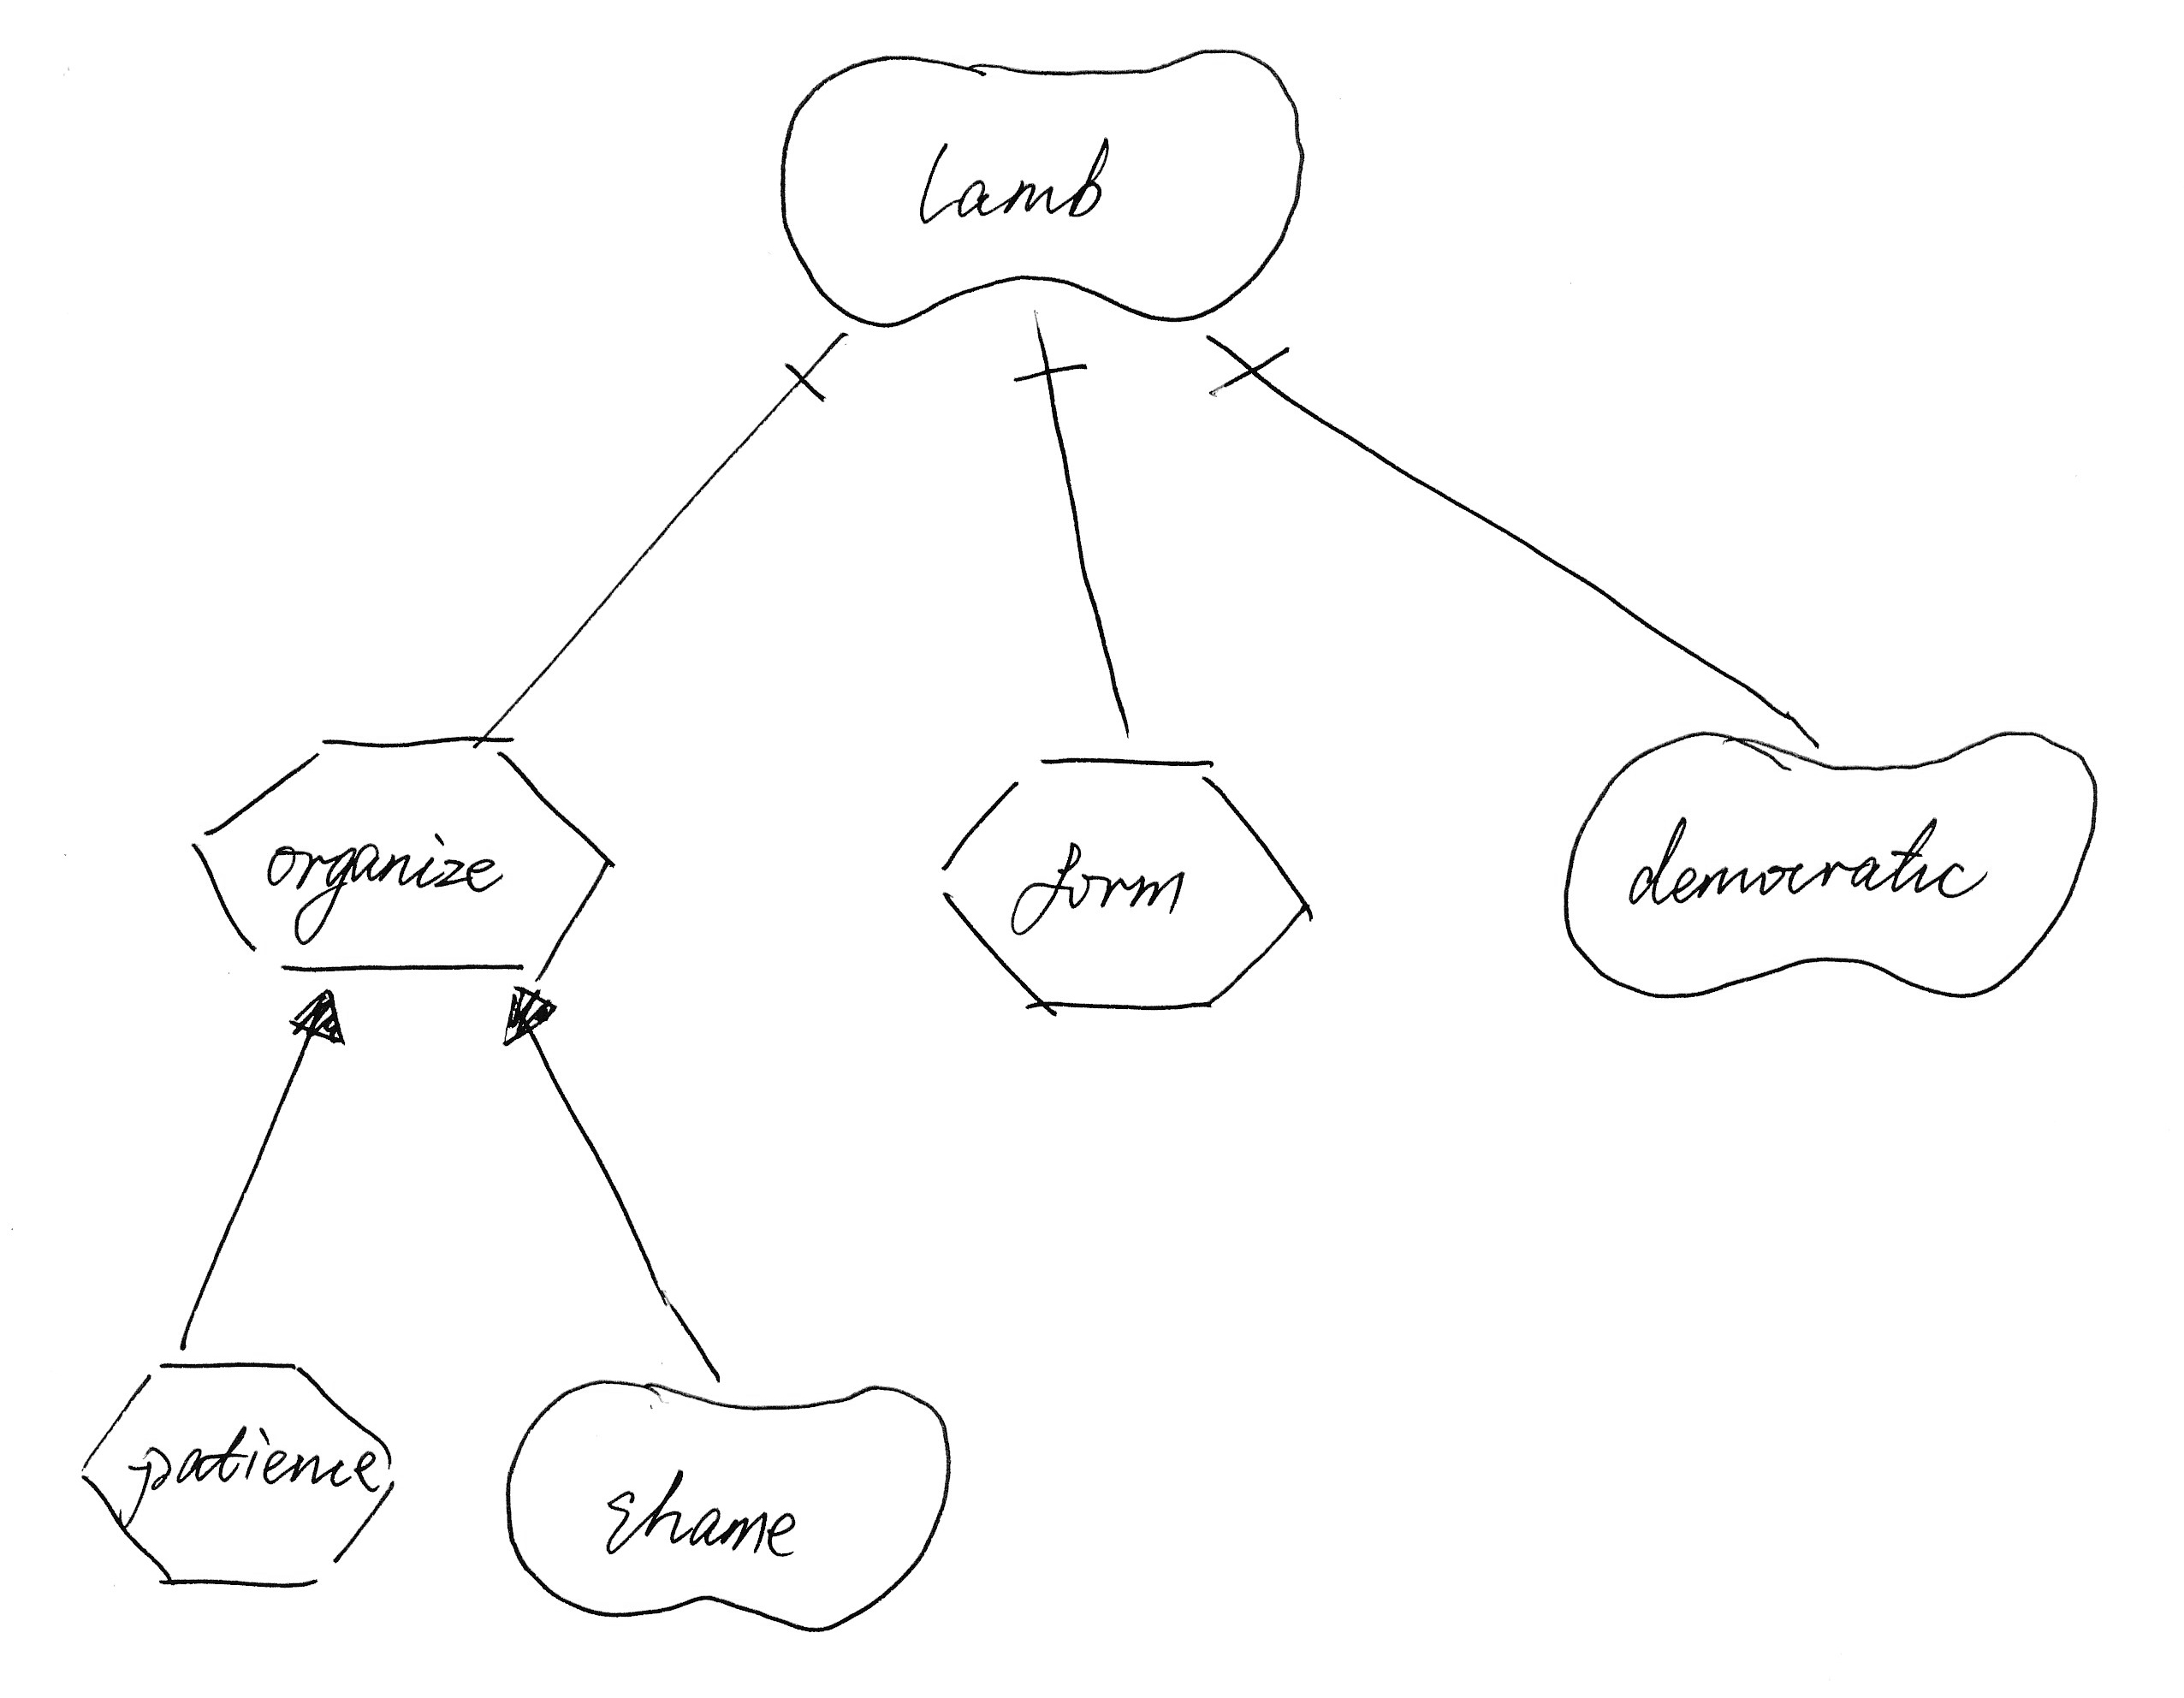and: (1198, 337, 1307, 417), (1007, 323, 1096, 411), (776, 328, 844, 429)
or: (269, 975, 358, 1063), (480, 973, 566, 1056)
quality: (1542, 716, 2117, 1021), (769, 30, 1315, 340), (484, 1358, 964, 1643)
task: (174, 718, 629, 991), (922, 736, 1331, 1028), (67, 1336, 415, 1599)
